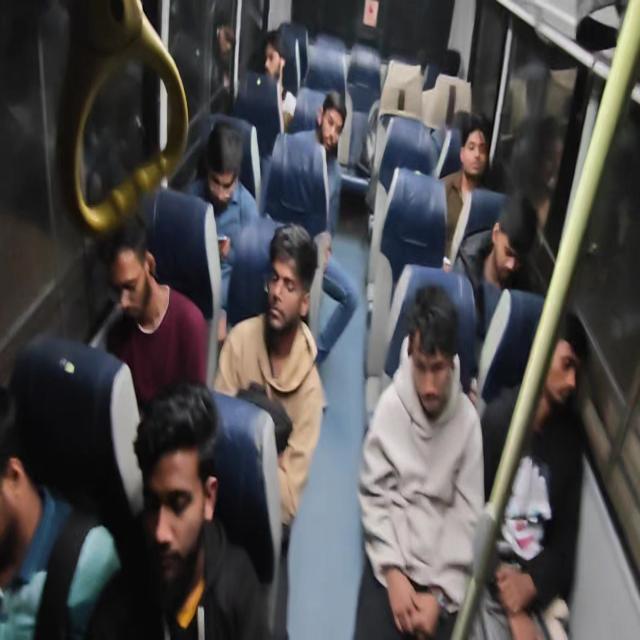person: (137, 393, 223, 590), (0, 362, 44, 564), (411, 282, 461, 428), (264, 224, 321, 351), (109, 212, 158, 338), (490, 180, 535, 297), (541, 312, 588, 409), (209, 111, 253, 210), (456, 115, 503, 193), (259, 9, 292, 89), (319, 84, 350, 158)
